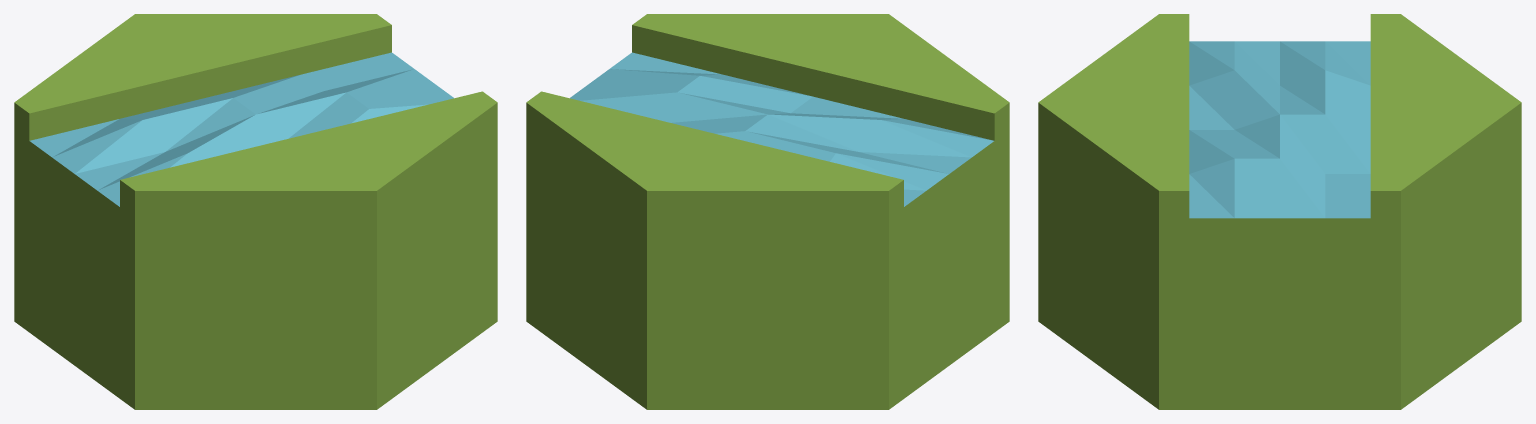
Rendered from river1.fbx.
3 views of the same model, side by side, from view 1: azimuth 30°, elevation 25°; view 2: azimuth 150°, elevation 25°; view 3: azimuth 270°, elevation 25° (orthographic).
Parts seen in each view (by area): view 1: Cylinder; view 2: Cylinder; view 3: Cylinder.
Boxes of the visible parts, box(x1,y1,x2,y2) form: Cylinder: box(14, 14, 497, 409); Cylinder: box(526, 14, 1009, 409); Cylinder: box(1038, 14, 1521, 409).
Size of the model in its own units: 1.73 by 1 by 2.
